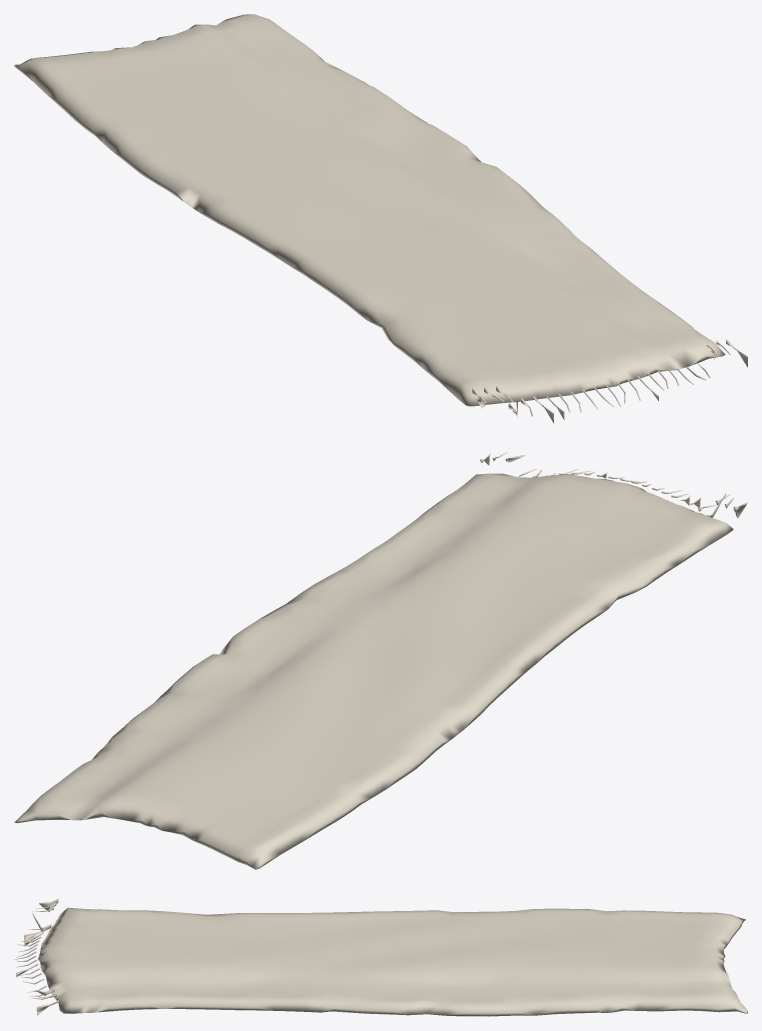
File: hornmal-00529096.glb
The picture shows the model from 3 angles, top to bottom: view 1: azimuth 30°, elevation 25°; view 2: azimuth 150°, elevation 25°; view 3: azimuth 270°, elevation 25°; orthographic projection. The views are drawn at different scales.
Visible parts, largest first — view 1: hornmal-00529096--woven-body; view 2: hornmal-00529096--woven-body; view 3: hornmal-00529096--woven-body.
Boxes of the visible parts, x1=… form: hornmal-00529096--woven-body: x1=14, y1=14, x2=725, y2=406; hornmal-00529096--woven-body: x1=14, y1=473, x2=733, y2=869; hornmal-00529096--woven-body: x1=37, y1=907, x2=747, y2=1016.
Bounding box in the file's own units: 0.453 × 0.0547 × 1.43.
